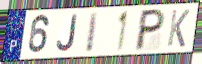1: (116, 8, 132, 53)
6: (27, 14, 50, 56)
I: (84, 11, 100, 55)
J: (56, 13, 79, 53)
K: (165, 9, 191, 49)
P: (133, 8, 167, 53)
